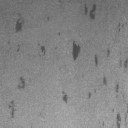red iron: (62, 22, 128, 103), (8, 18, 22, 52), (102, 108, 121, 128), (84, 4, 96, 20), (8, 100, 16, 118), (18, 76, 25, 88), (40, 46, 46, 54)
